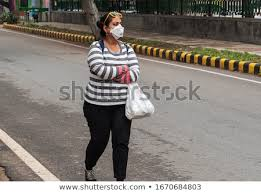mask: (100, 10, 124, 41)
